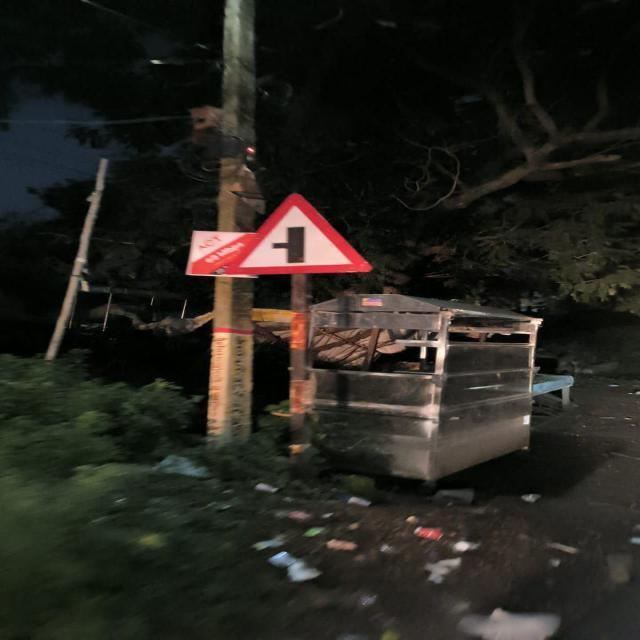side road left: (222, 189, 372, 285)
